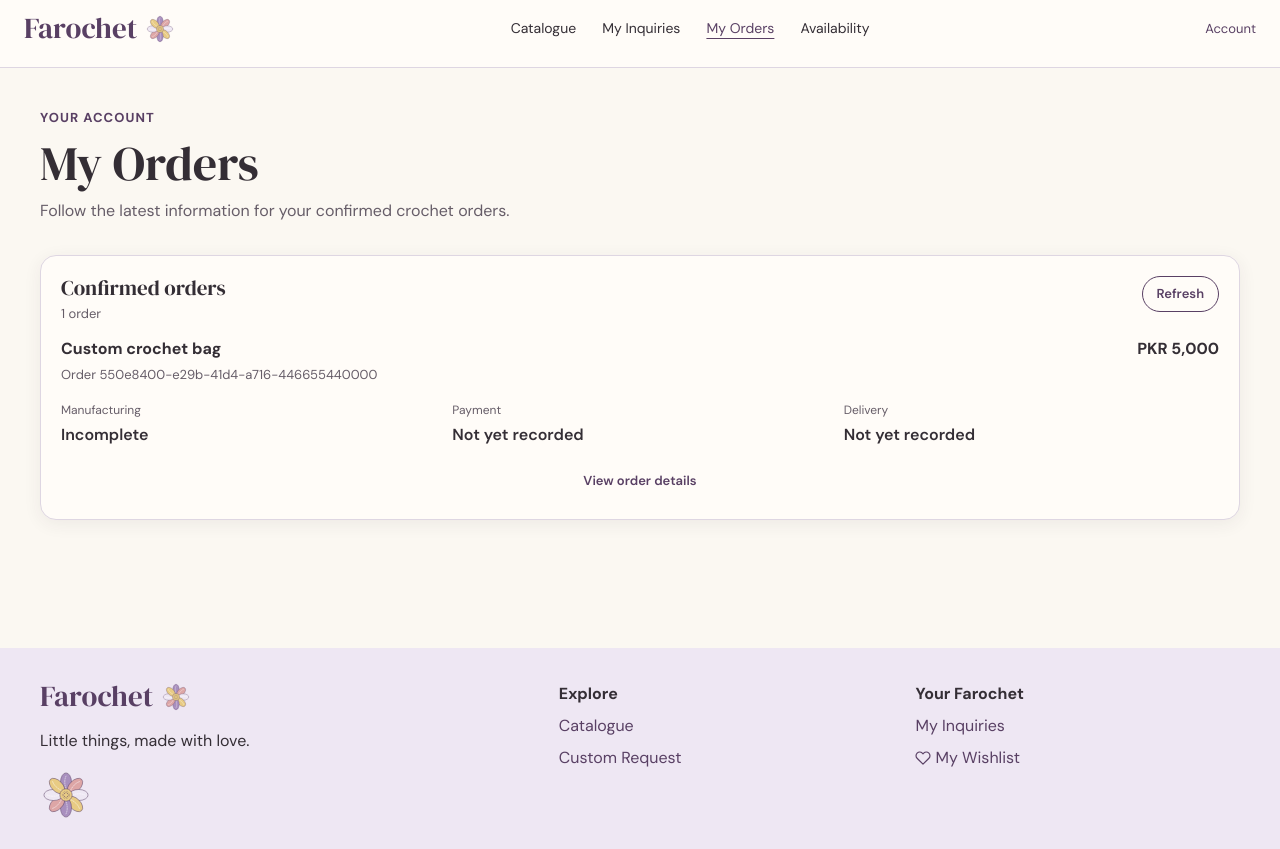
Customer order cancellation requests › submits a reason without cancelling the Order itself
This screenshot has width=1280, height=849.
Click the button "View order details".
click(640, 481)  # box left=61, top=463, right=1219, bottom=499
(page scrolled)
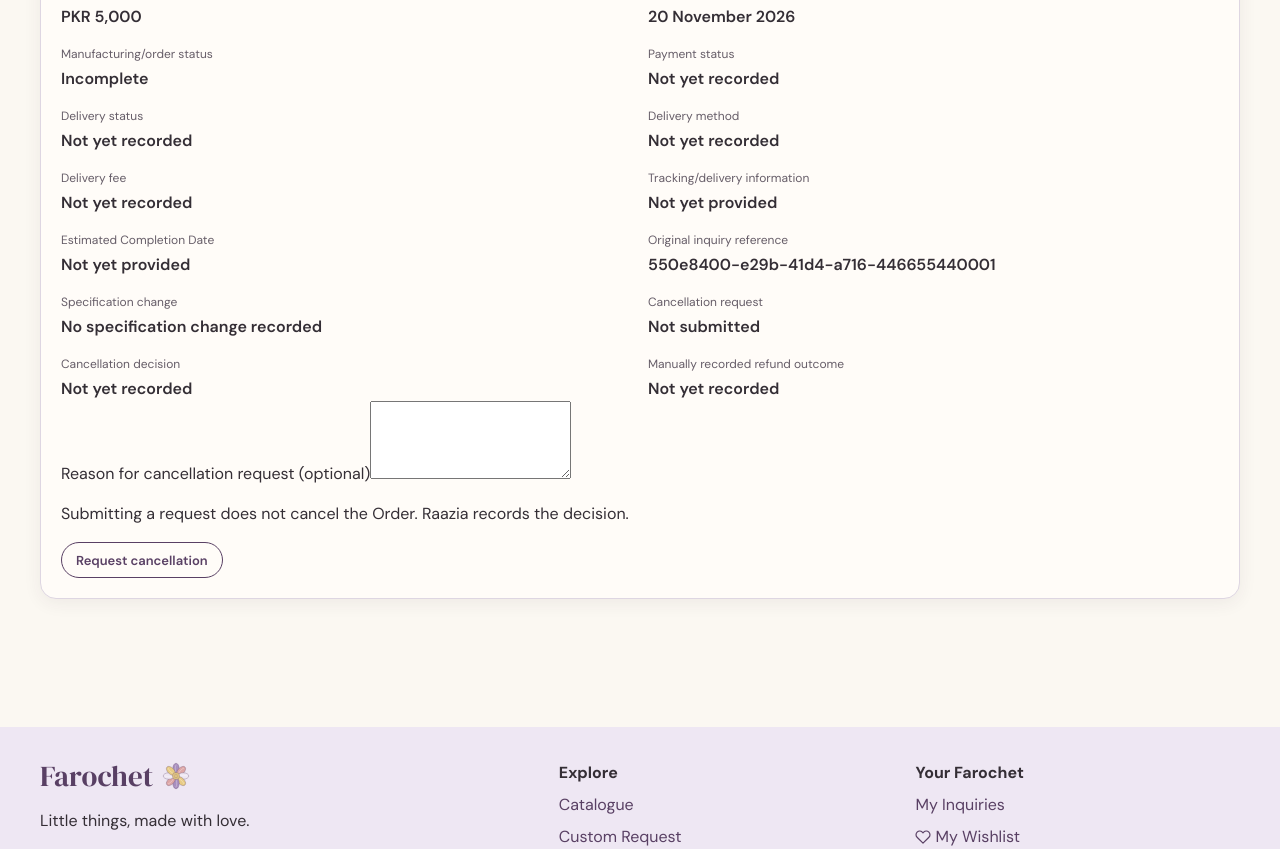
Type "Changed my mind" into the text box labelled "Reason for cancellation request (optional)".
click(471, 440); type("Changed my mind")  # box left=370, top=402, right=571, bottom=480
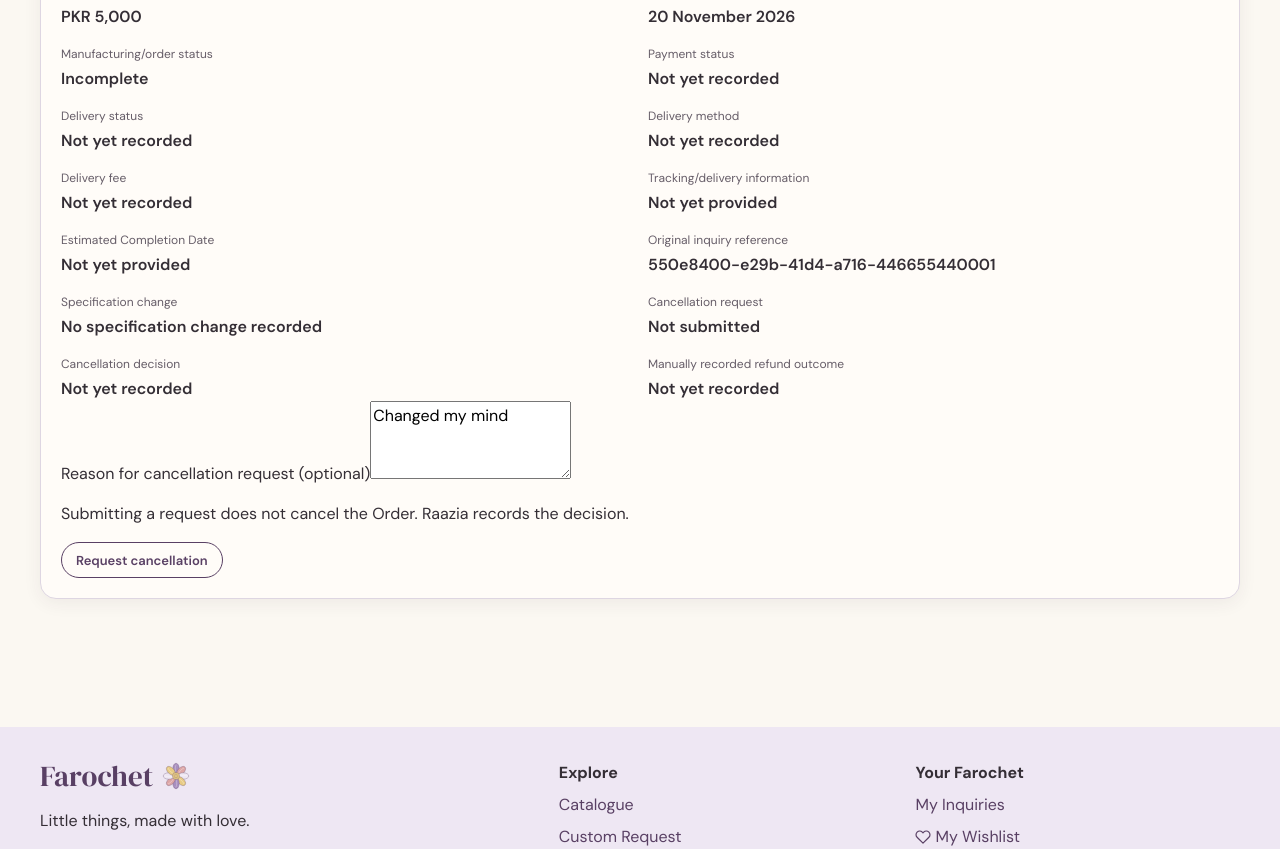
Click the button "Request cancellation".
click(142, 560)  # box left=61, top=542, right=223, bottom=578
(page scrolled)
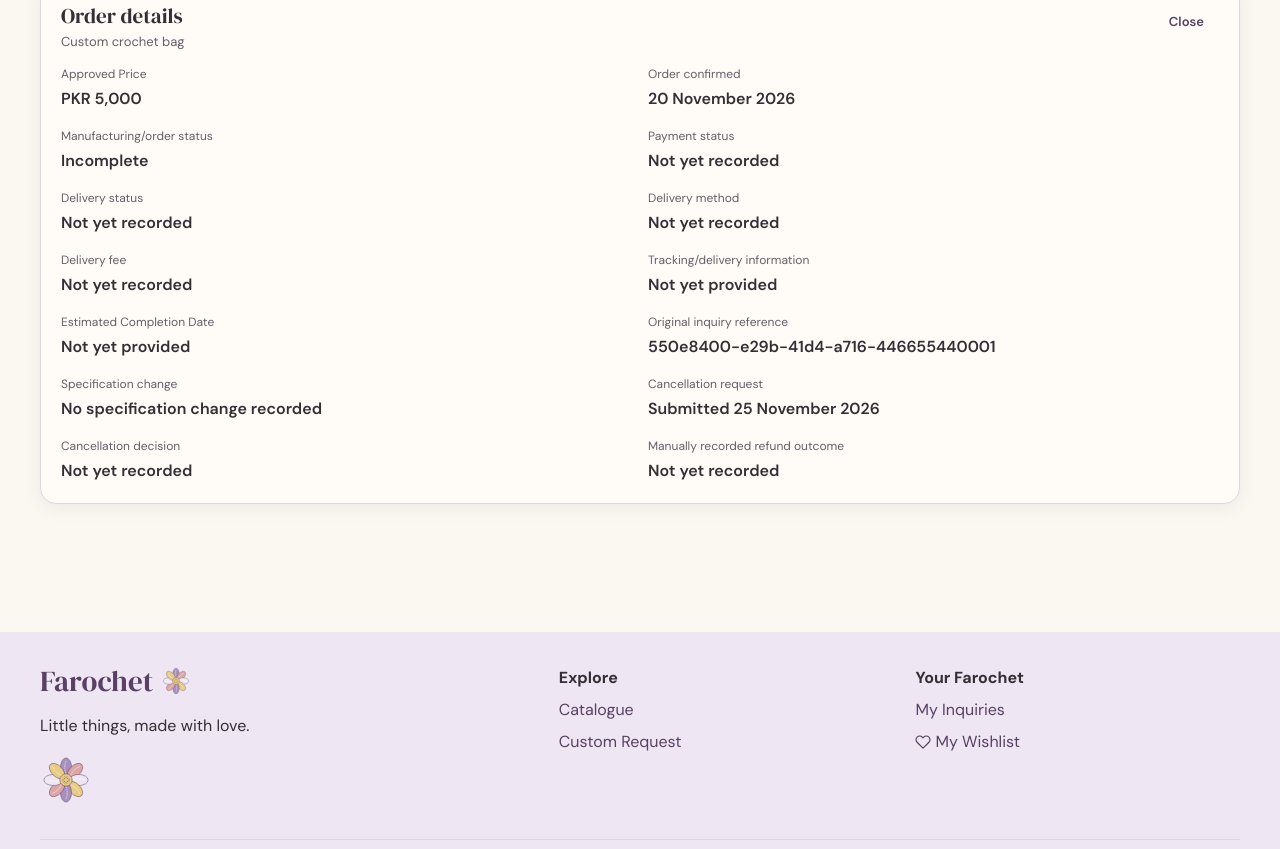
Check: the text "Submitted 25 November 2026" is shown, box left=648, top=398, right=880, bottom=420
Check: the button "Request cancellation" is gone
